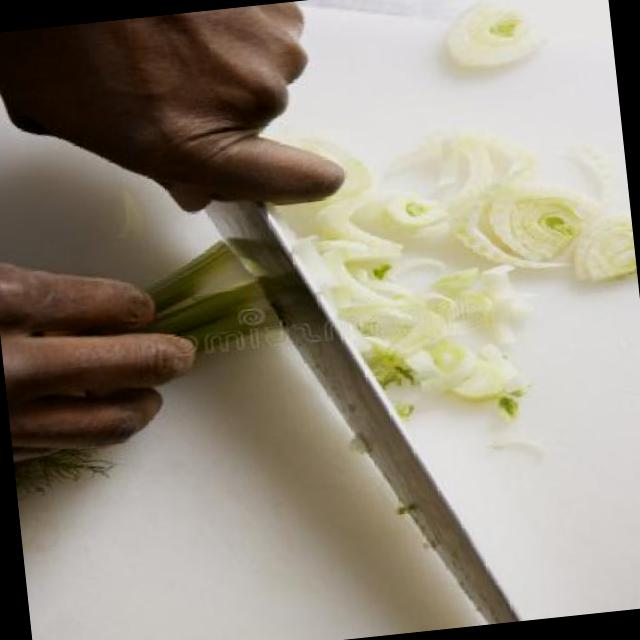knife: (159, 170, 537, 640)
